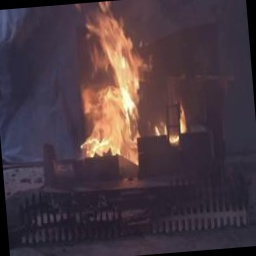fire: (65, 0, 179, 167)
